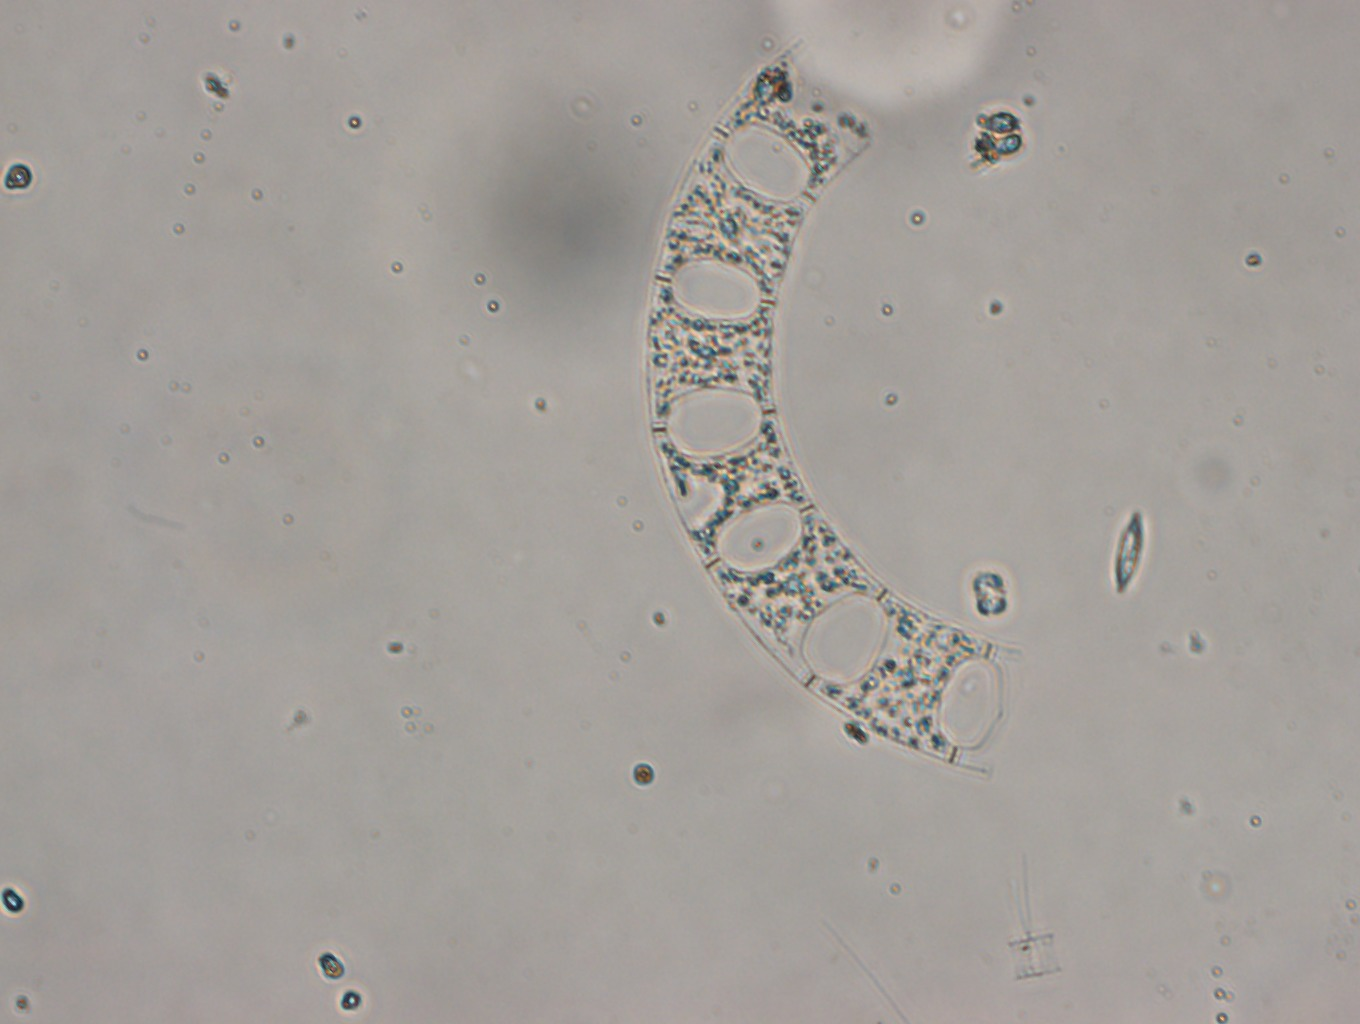chaetoceros: (1001, 853, 1066, 981)
eucampia: (641, 35, 1022, 778)
